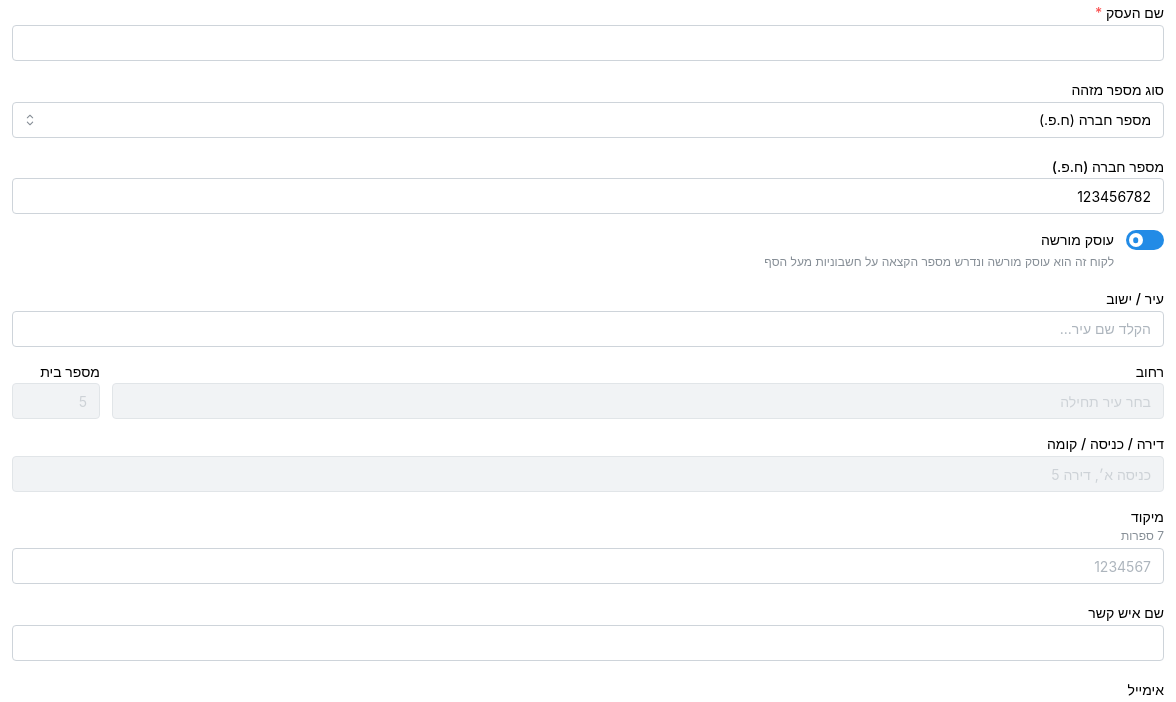
Test: CustomerForm tax ID validation › resets isLicensedDealer to false when taxId is cleared
The image size is (1176, 702).
Click the field labelled "מספר חברה (ח.פ.)".
click(588, 196)  # box [12,178,1164,214]
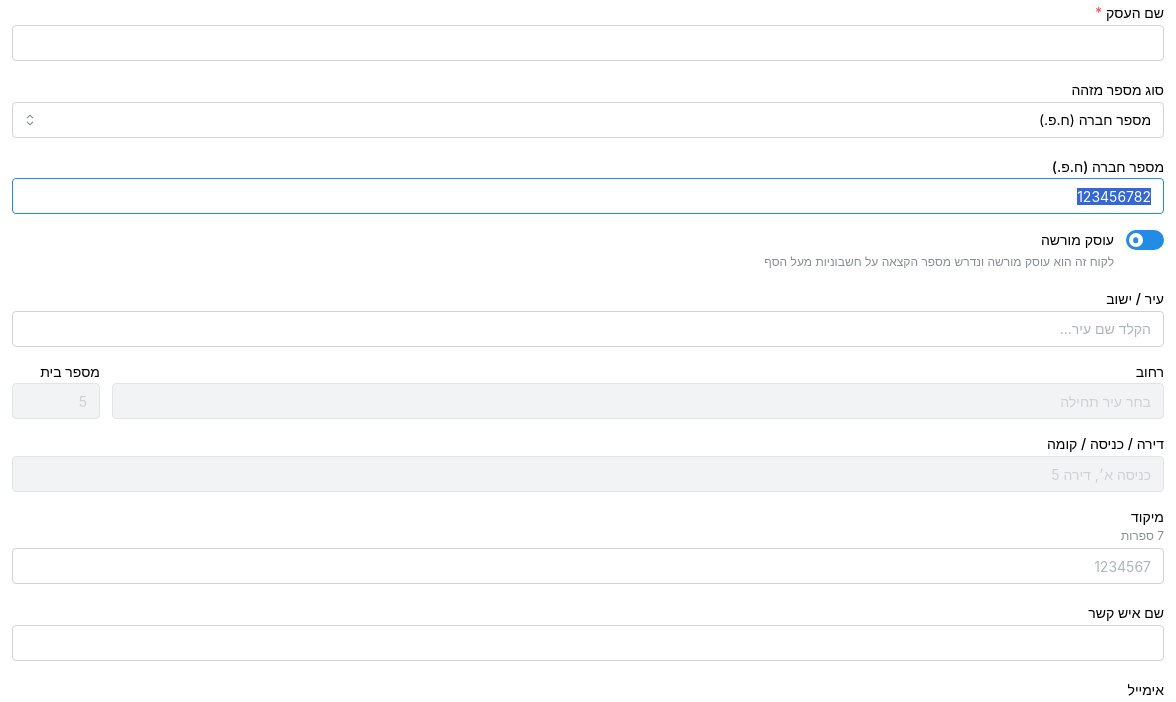
Press Backspace
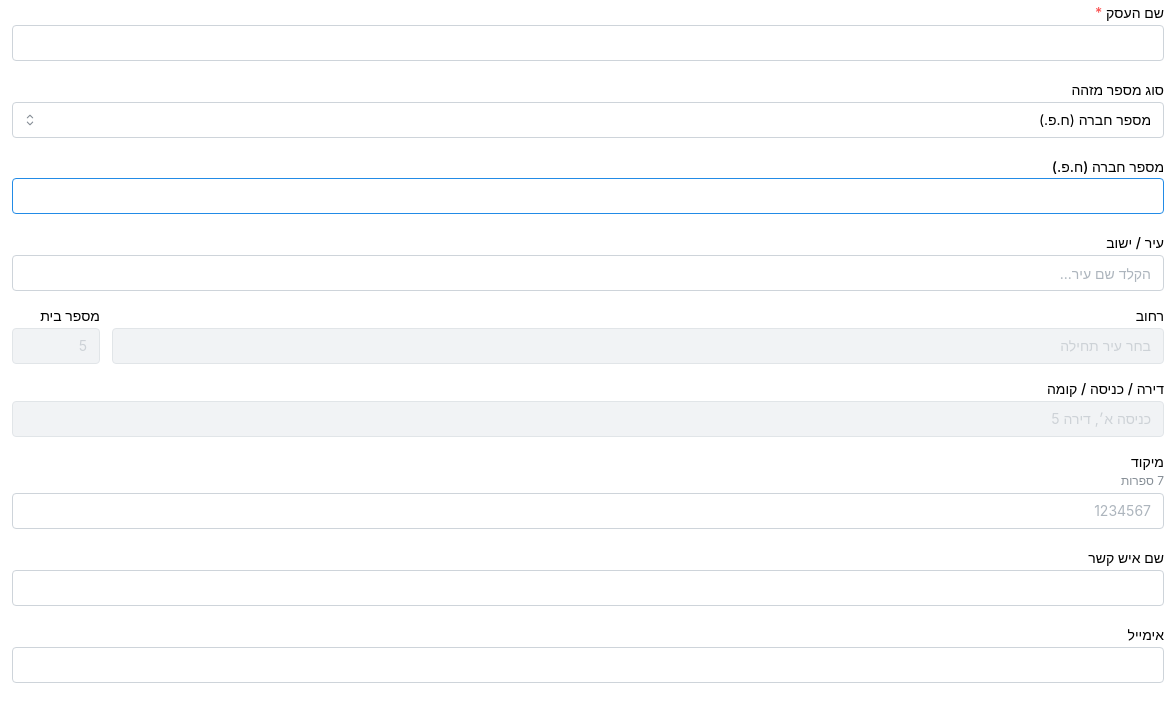
Expected: the text "עוסק מורשה" is gone
